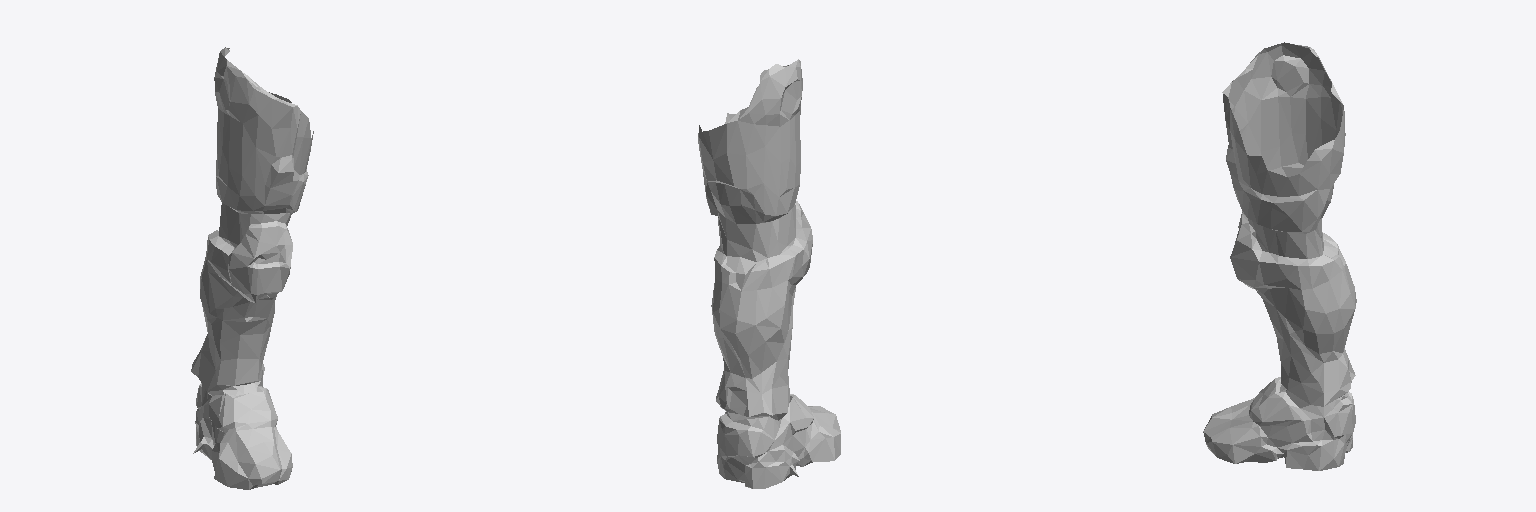
File: Pierna_Der.obj
3 renders of one model, left to right at view 1: azimuth 30°, elevation 25°; view 2: azimuth 150°, elevation 25°; view 3: azimuth 270°, elevation 25°, orthographic.
Visible parts, largest first — view 1: Spartan_Guardian_[number redacted]_texture.001; view 2: Spartan_Guardian_[number redacted]_texture.001; view 3: Spartan_Guardian_[number redacted]_texture.001.
Part boxes in pixels (left/top/right/bottom): Spartan_Guardian_[number redacted]_texture.001: left=191, top=47, right=313, bottom=489; Spartan_Guardian_[number redacted]_texture.001: left=698, top=59, right=840, bottom=488; Spartan_Guardian_[number redacted]_texture.001: left=1203, top=42, right=1356, bottom=470.
Bounding box in the file's own units: 0.3242 × 1.15 × 0.3943.